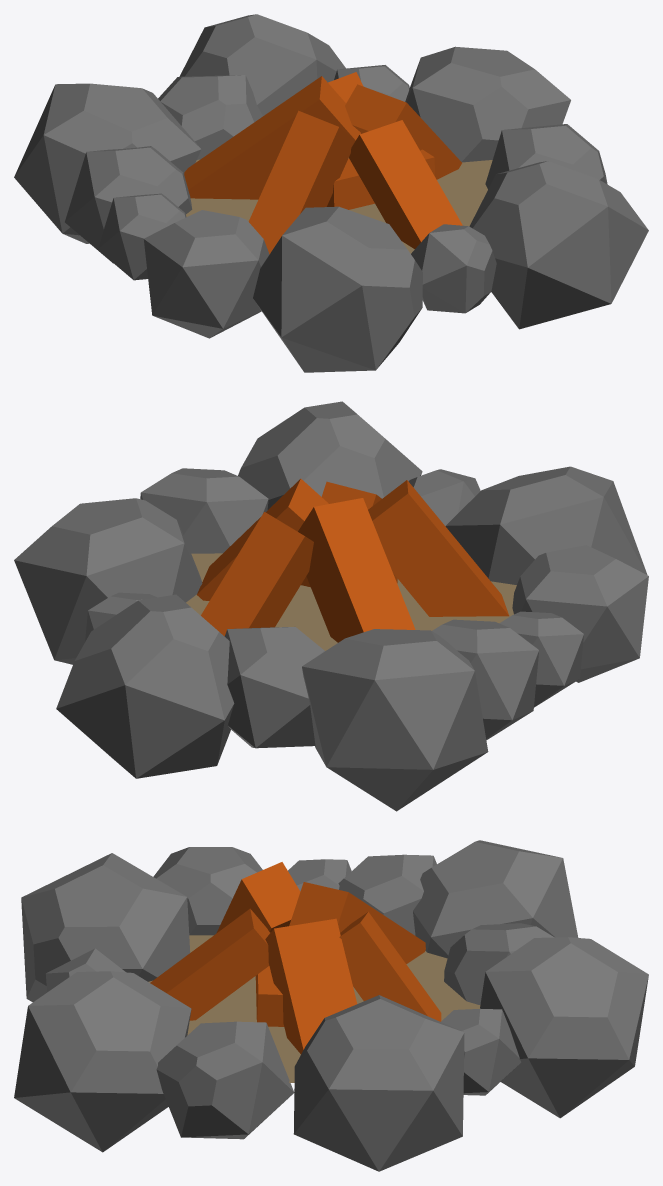
The model's file is campfire_2.glb.
3 renders of one model, top to bottom at view 1: azimuth 30°, elevation 25°; view 2: azimuth 150°, elevation 25°; view 3: azimuth 270°, elevation 25°, orthographic. The views are drawn at different scales.
Visible parts, largest first — view 1: Icosphere.002, Icosphere.007, Icosphere.004, Icosphere.009, Icosphere.001, Icosphere.012, Cube.003, Cube, Cube.001, Icosphere.005, Icosphere.011, Icosphere.010 (+7 smaller); view 2: Icosphere.004, Icosphere.012, Icosphere.009, Icosphere.002, Icosphere.007, Icosphere.001, Cube.003, Cube.001, Icosphere.010, Cube.002, Icosphere.008, Icosphere.005 (+6 smaller); view 3: Icosphere.009, Icosphere.007, Icosphere.012, Icosphere.002, Icosphere.004, Icosphere.008, Cube.004, Cube, Icosphere.001, Cube.002, Cylinder, Icosphere.005 (+7 smaller).
Boxes of the visible parts, x1,y1,x2,y2 form: Icosphere.002: [253, 206, 422, 372]; Icosphere.007: [469, 161, 648, 329]; Icosphere.004: [14, 83, 201, 243]; Icosphere.009: [405, 46, 570, 162]; Icosphere.001: [143, 210, 269, 338]; Icosphere.012: [179, 14, 345, 115]; Cube.003: [184, 76, 360, 199]; Cube: [349, 120, 462, 248]; Cube.001: [248, 110, 355, 254]; Icosphere.005: [65, 146, 192, 263]; Icosphere.011: [411, 224, 496, 313]; Icosphere.010: [158, 75, 262, 159]; Icosphere.004: [302, 629, 488, 811]; Icosphere.012: [56, 594, 234, 778]; Icosphere.009: [14, 498, 202, 664]; Icosphere.002: [445, 466, 647, 584]; Icosphere.007: [238, 401, 422, 509]; Icosphere.001: [512, 545, 648, 682]; Cube.003: [298, 498, 415, 642]; Cube.001: [368, 480, 509, 616]; Icosphere.010: [224, 627, 324, 748]; Cube.002: [201, 512, 313, 636]; Icosphere.008: [140, 468, 268, 553]; Icosphere.005: [432, 619, 539, 740]; Icosphere.009: [293, 995, 464, 1171]; Icosphere.007: [14, 971, 191, 1152]; Icosphere.012: [480, 937, 648, 1118]; Icosphere.002: [21, 853, 190, 1002]; Icosphere.004: [413, 840, 578, 958]; Icosphere.008: [156, 1021, 294, 1139]; Cube.004: [265, 918, 357, 1054]; Cube: [150, 908, 270, 1020]; Icosphere.001: [153, 847, 262, 935]; Cube.002: [339, 912, 441, 1021]; Cylinder: [148, 935, 480, 1082]; Icosphere.005: [338, 854, 436, 935].
Bounding box in the file's own units: 2.13 × 0.8165 × 2.4.
